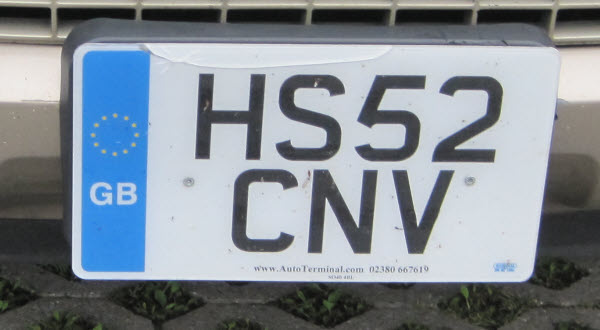license_plate: (71, 43, 561, 279)
